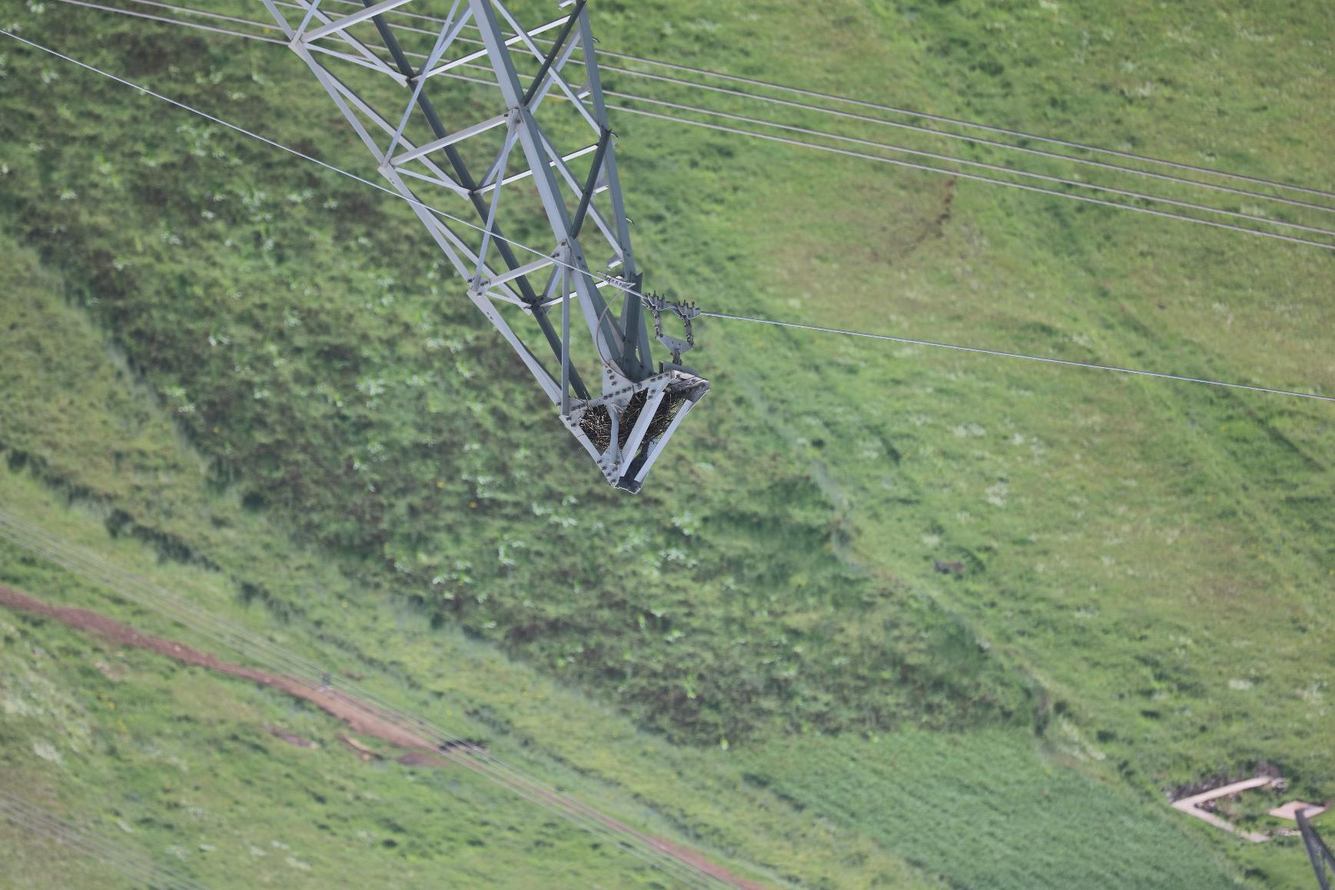nest: (579, 387, 683, 451)
